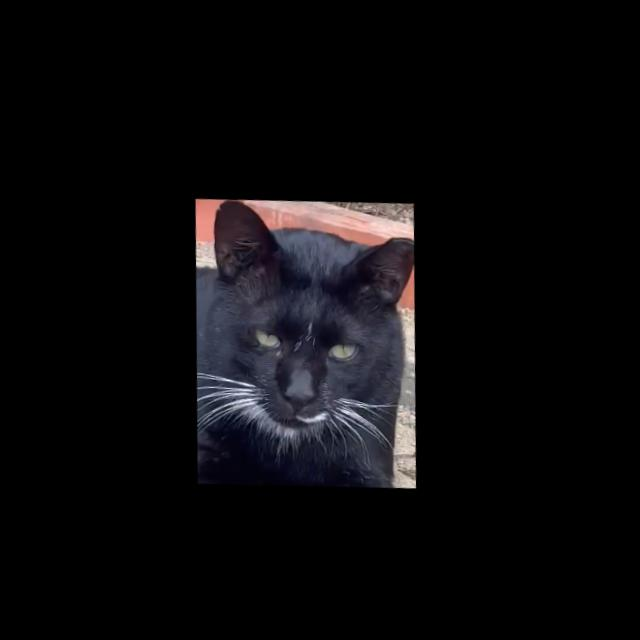animals: (189, 184, 428, 449)
